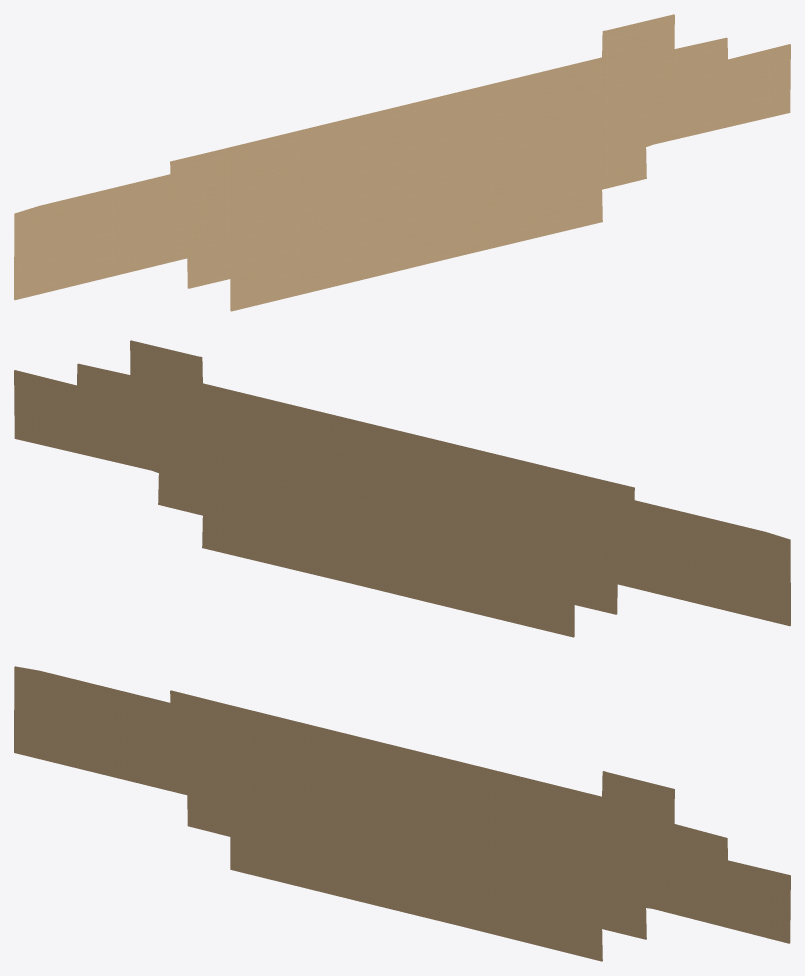
File: floor_22.obj
The picture shows the model from 3 angles, top to bottom: view 1: azimuth 30°, elevation 25°; view 2: azimuth 150°, elevation 25°; view 3: azimuth 330°, elevation 25°; orthographic projection.
Visible parts, largest first — view 1: floor_22; view 2: floor_22; view 3: floor_22.
Part boxes in pixels (box(x1,y1,x2,y2)): floor_22: box(14, 14, 790, 311); floor_22: box(14, 340, 790, 637); floor_22: box(14, 666, 790, 961).
Bounding box in the file's own units: 67.46 × 15.82 × 0.1.
1 material, 1 textured.
